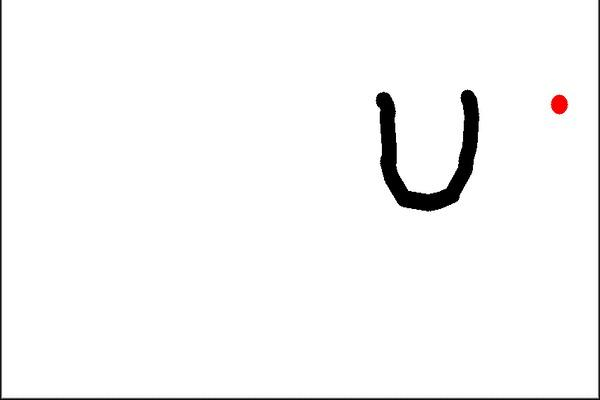U: (365, 74, 487, 215)
